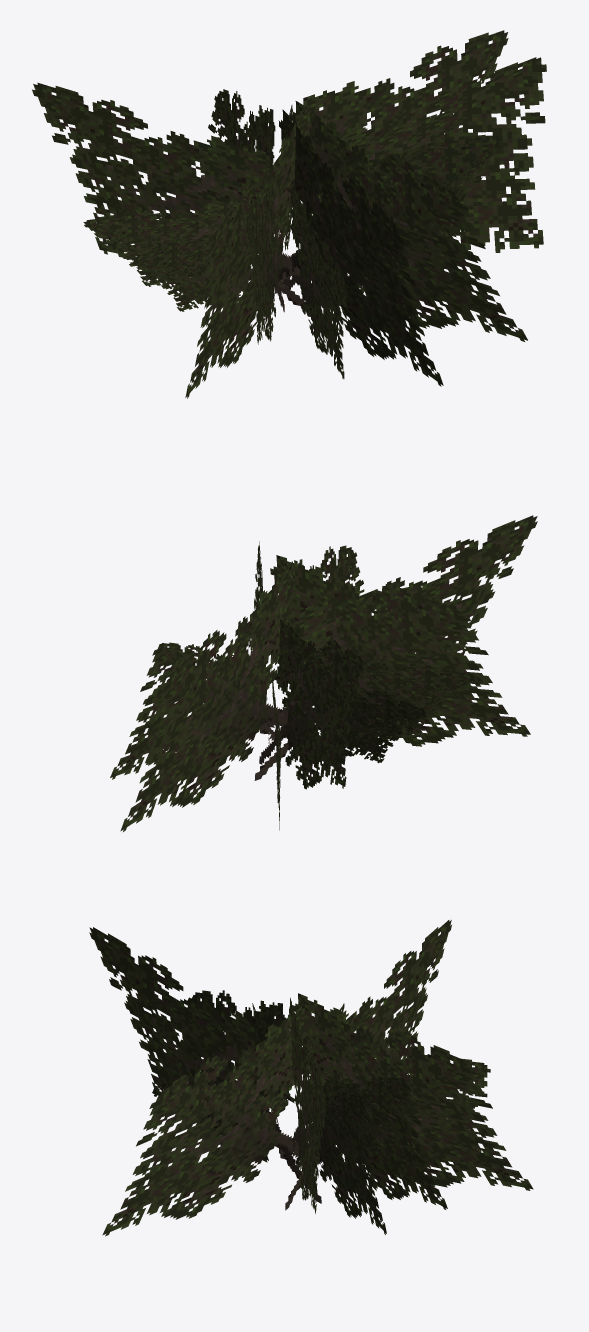
File: low_poly_bush.glb
3 views of the same model, one above another, from view 1: azimuth 30°, elevation 25°; view 2: azimuth 150°, elevation 25°; view 3: azimuth 270°, elevation 25° (orthographic). The views are drawn at different scales.
Parts seen in each view (by area): view 1: Plane.002; view 2: Plane.002; view 3: Plane.002.
Boxes of the visible parts, x1,y1,x2,y2 form: Plane.002: [32, 30, 546, 398]; Plane.002: [110, 515, 537, 831]; Plane.002: [89, 920, 533, 1236].
Size of the model in its own units: 5.13 by 2.42 by 5.68.
Materials: 1 (1 with a texture image).
